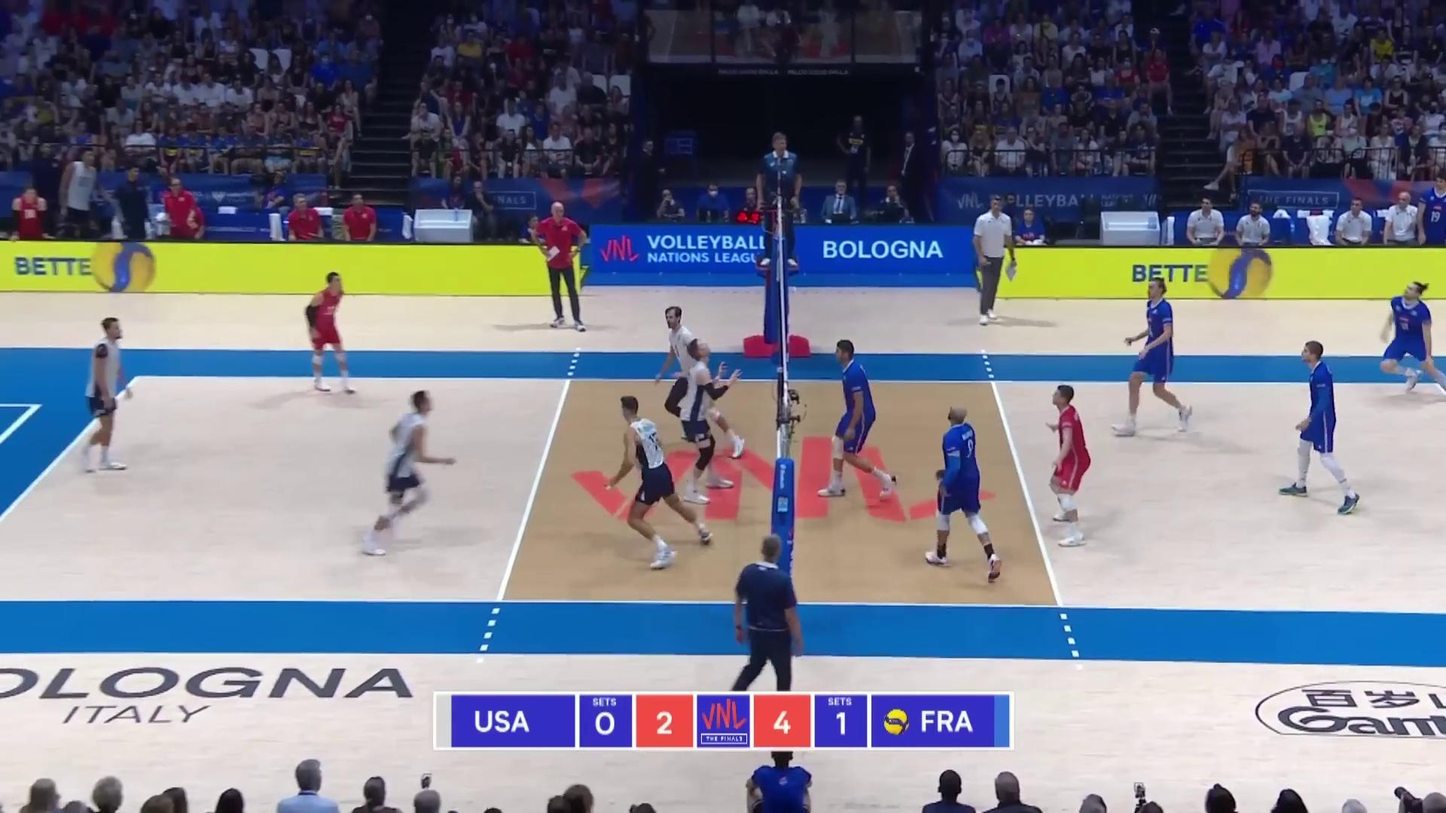player: (606, 395, 715, 568), (356, 388, 453, 560), (1274, 340, 1363, 519), (921, 402, 1006, 585), (811, 340, 900, 503), (654, 301, 743, 464), (1111, 276, 1195, 436), (669, 339, 738, 507), (1042, 383, 1096, 548), (1375, 278, 1446, 401), (81, 316, 132, 474), (303, 271, 359, 395)
refree: (733, 540, 806, 695), (758, 132, 804, 267)
